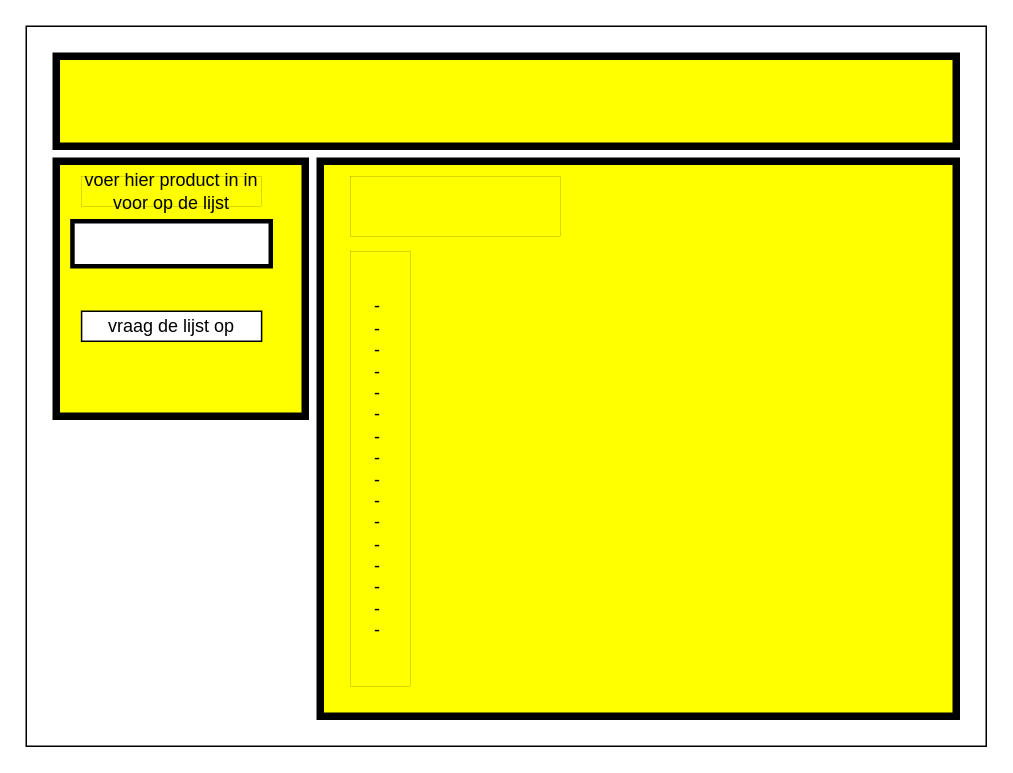
The diagram is 1013 pixels wide and 773 high, and some of its shapes have lost their labels. The shapes that lost their labels are listed below. From the top down, each one's box as (x1, y1, x2, y2) in pixels, then its label:
(52, 52, 959, 149): Mijn boodschappenlijstje:
(350, 176, 560, 236): De lijst:
